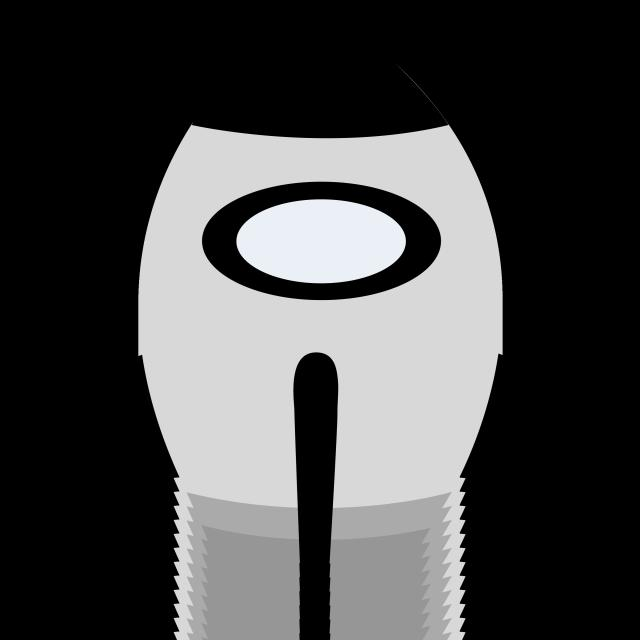rocket: (14, 3, 638, 640)
